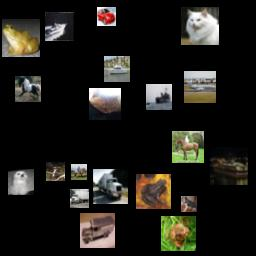airplane: (184, 71, 216, 103), (46, 162, 65, 181)
automobile: (97, 7, 116, 26)
cat: (181, 7, 219, 45), (89, 88, 121, 120)
dog: (8, 169, 34, 195), (181, 196, 197, 212)
frog: (2, 19, 40, 57), (136, 174, 171, 209), (161, 216, 196, 251)
ship: (210, 147, 248, 185), (45, 12, 74, 41), (146, 84, 172, 110), (104, 56, 130, 82)
truck: (93, 169, 128, 204), (80, 213, 115, 248), (70, 189, 89, 208)
